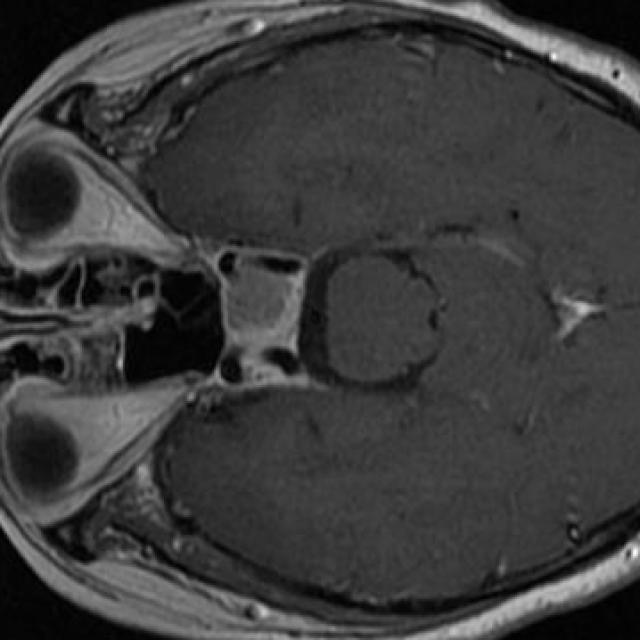pituitary: (223, 267, 296, 346)
